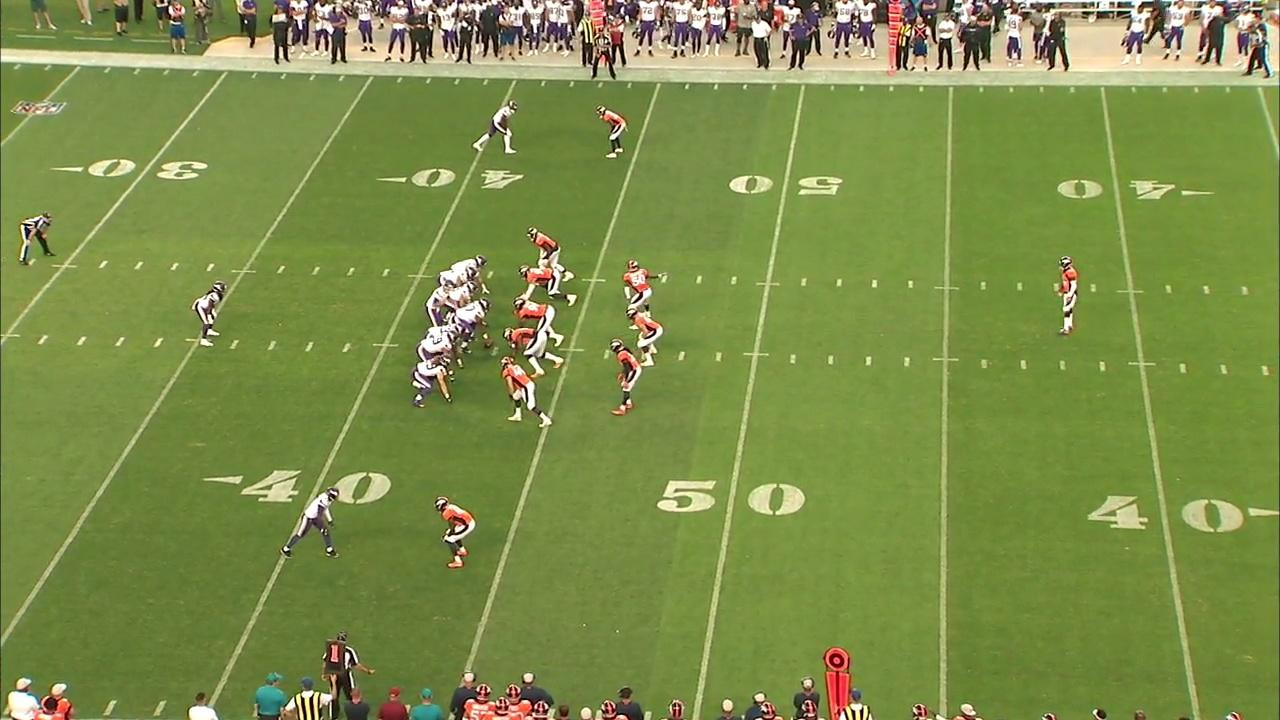five_hash: (229, 267, 257, 275), (1127, 360, 1157, 367), (371, 342, 400, 349), (933, 285, 960, 292), (931, 356, 961, 362), (557, 348, 586, 354), (0, 332, 24, 339), (580, 277, 607, 283), (407, 274, 433, 280), (755, 281, 780, 287), (741, 352, 770, 357), (51, 264, 78, 269), (1116, 290, 1147, 294)
hash: (73, 331, 91, 348), (35, 333, 52, 350), (112, 334, 128, 350), (1054, 357, 1069, 373), (303, 339, 318, 355), (96, 257, 111, 272), (1237, 283, 1252, 298), (151, 336, 166, 351), (1176, 361, 1190, 377), (131, 259, 146, 273), (378, 265, 392, 280), (1257, 363, 1271, 378), (868, 275, 881, 291), (1217, 361, 1230, 377), (977, 356, 990, 372), (675, 348, 688, 364), (1016, 359, 1031, 372), (227, 337, 240, 352), (166, 260, 180, 273), (273, 263, 287, 276), (727, 274, 740, 288), (833, 276, 846, 290), (1162, 284, 1176, 297), (266, 339, 279, 353), (798, 275, 810, 290), (340, 340, 352, 355), (344, 264, 357, 277), (904, 278, 917, 291), (1097, 360, 1110, 373), (310, 264, 322, 278), (1013, 280, 1025, 294), (712, 350, 724, 364), (692, 273, 704, 286), (977, 279, 989, 292), (1200, 284, 1212, 297), (825, 353, 837, 366), (864, 355, 875, 369), (205, 259, 215, 274), (901, 356, 913, 368), (1088, 282, 1099, 295), (787, 353, 798, 365), (659, 273, 669, 284)
marker: (589, 0, 607, 65), (887, 0, 901, 71)
number: (1075, 489, 1280, 538), (655, 472, 809, 523), (374, 160, 525, 199), (1051, 174, 1214, 205), (724, 167, 847, 205), (84, 153, 212, 185)
